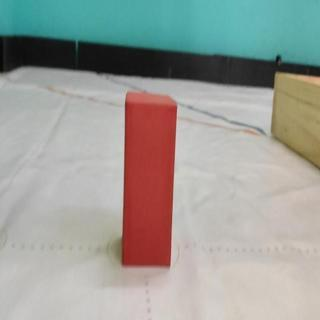redbox: (124, 90, 177, 268)
